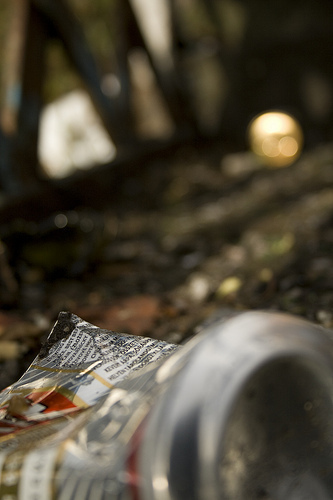litter: (2, 312, 328, 484)
